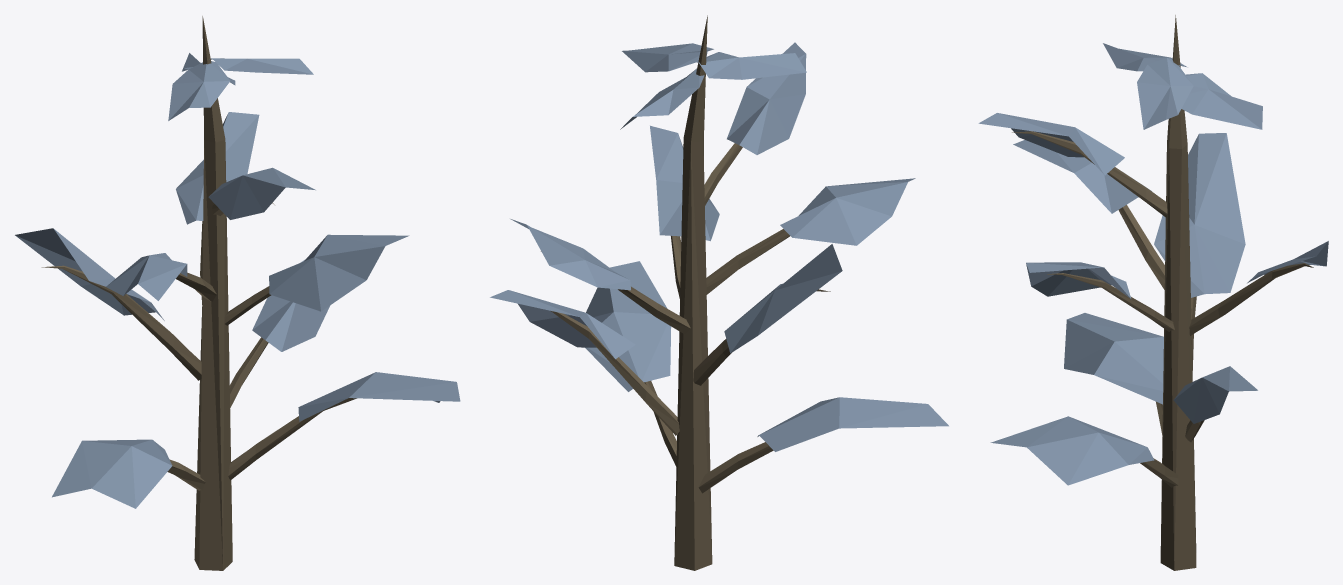
Rendered from Blue_Spruce_4_3.fbx.
3 renders of one model, left to right at view 1: azimuth 30°, elevation 25°; view 2: azimuth 150°, elevation 25°; view 3: azimuth 270°, elevation 25°, orthographic. The views are drawn at different scales.
Parts seen in each view (by area): view 1: Spurce_4_3; view 2: Spurce_4_3; view 3: Spurce_4_3.
Part boxes in pixels (bbox=[...]): Spurce_4_3: bbox=[15, 16, 460, 570]; Spurce_4_3: bbox=[490, 15, 948, 570]; Spurce_4_3: bbox=[978, 15, 1328, 570].
Bounding box in the file's own units: 278 × 389 × 228.
